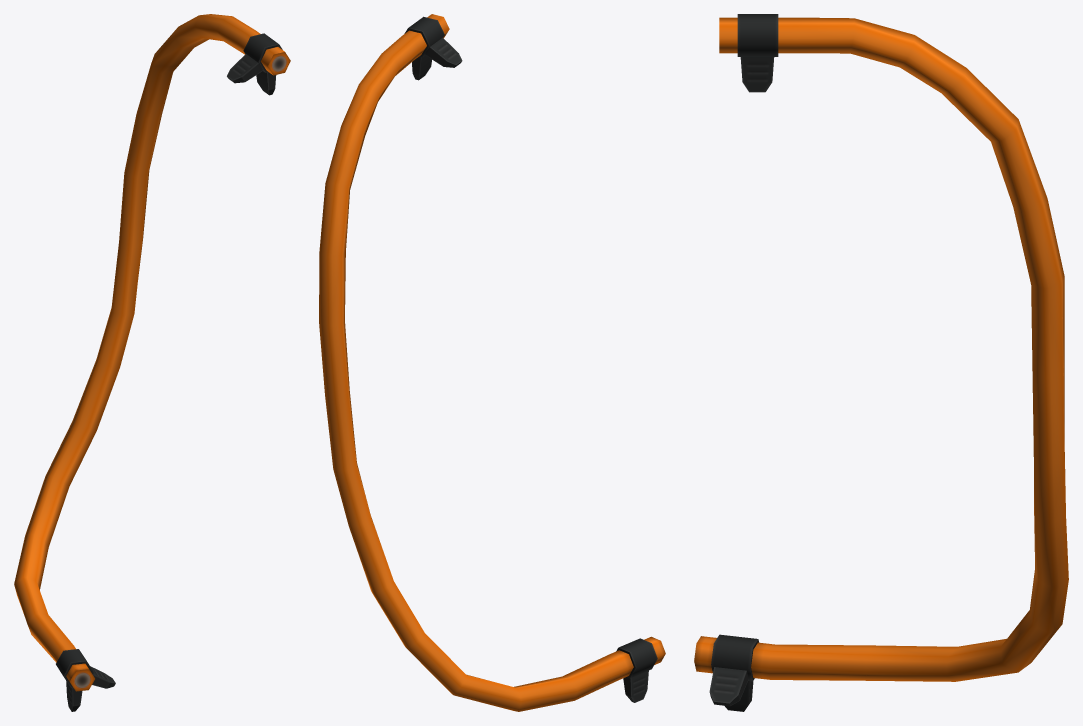
File: jsf_GasRange_11b.fbx
3 renders of one model, left to right at view 1: azimuth 30°, elevation 25°; view 2: azimuth 150°, elevation 25°; view 3: azimuth 270°, elevation 25°, orthographic. The views are drawn at different scales.
Visible parts, largest first — view 1: GasHose; view 2: GasHose; view 3: GasHose.
Boxes of the visible parts, x1,y1,x2,y2 form: GasHose: (14, 14, 290, 711); GasHose: (319, 14, 665, 711); GasHose: (694, 14, 1068, 711).
Bounding box in the file's own units: 17.57 × 44.91 × 18.54.
